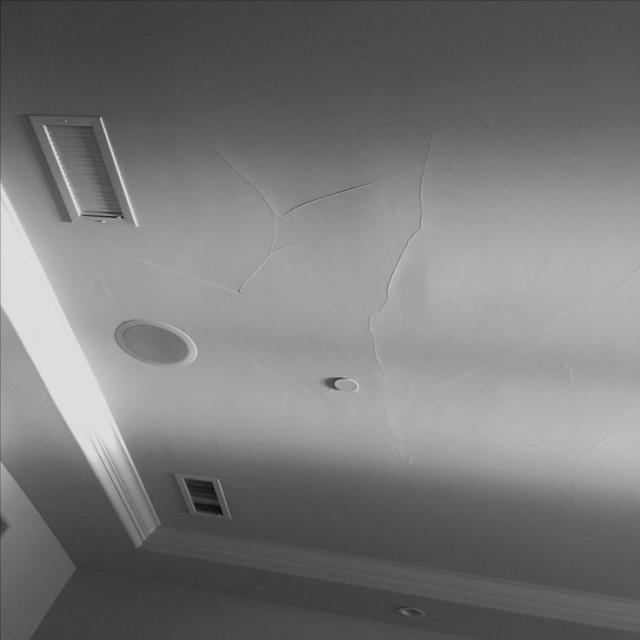trowels marks: (88, 117, 444, 385), (428, 260, 640, 501), (288, 385, 429, 483)
